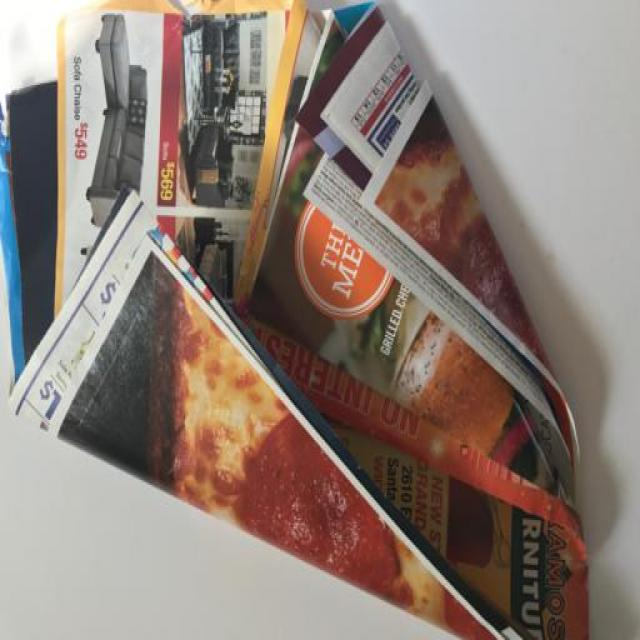paper: (5, 1, 628, 640)
